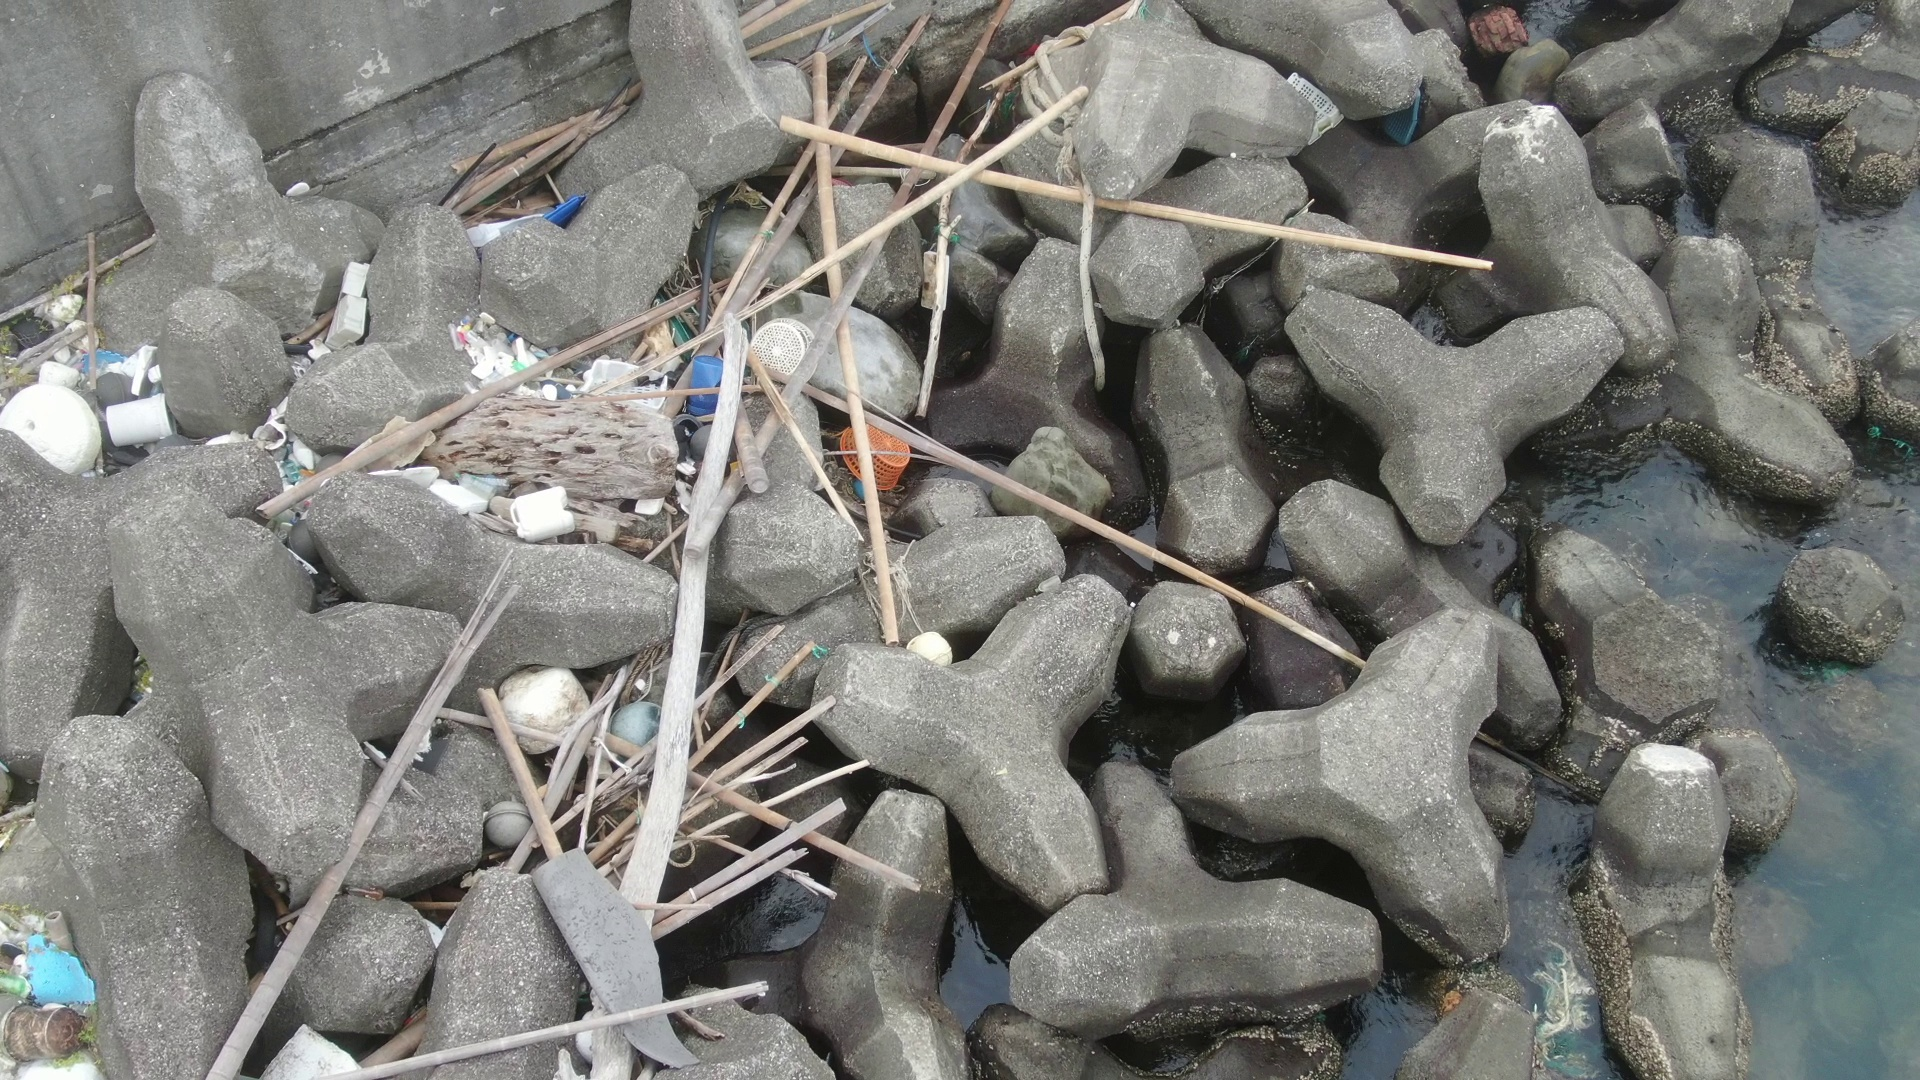garbage: (409, 306, 728, 560), (512, 851, 702, 1080), (487, 654, 669, 869), (3, 287, 170, 473), (202, 407, 418, 512), (1, 913, 98, 1062), (220, 1011, 377, 1080), (458, 190, 597, 260), (320, 243, 392, 360), (836, 419, 923, 504), (736, 306, 823, 390), (1273, 61, 1346, 145), (1366, 70, 1428, 152), (899, 626, 959, 676)
